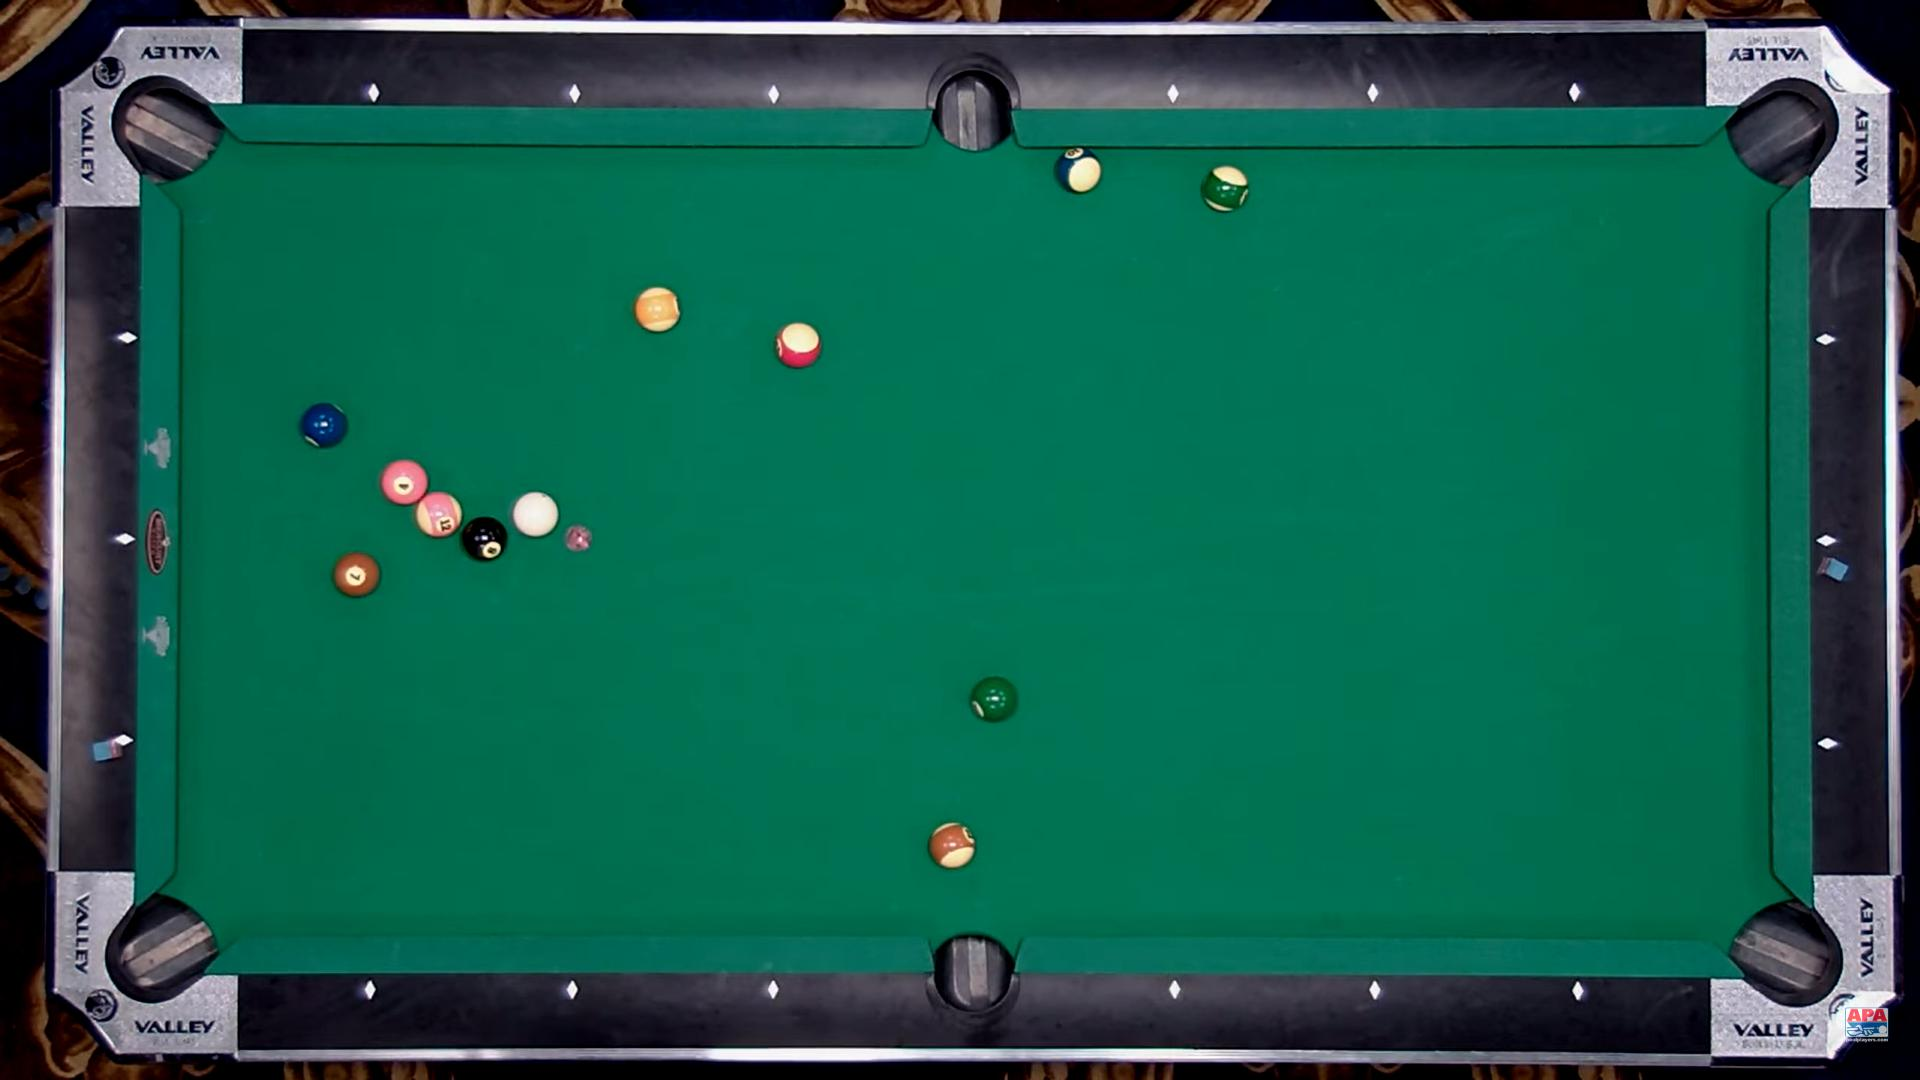Black: (463, 517, 506, 562)
Cue: (514, 491, 560, 538)
Dot: (1367, 86, 1382, 100), (1818, 334, 1833, 348), (1818, 534, 1833, 549), (1818, 736, 1833, 750), (1575, 985, 1589, 1000), (563, 982, 578, 997), (363, 984, 377, 998), (115, 735, 129, 748), (119, 533, 132, 547), (121, 331, 135, 345), (367, 87, 381, 100), (567, 84, 580, 99), (765, 87, 779, 100), (1568, 86, 1582, 99), (1367, 982, 1382, 996), (1168, 982, 1182, 997), (765, 981, 778, 996), (1168, 88, 1182, 102)
Solid: (969, 676, 1018, 723), (301, 402, 348, 448), (381, 460, 429, 505), (334, 551, 378, 597)
Striped: (1201, 166, 1250, 214), (1054, 146, 1102, 193), (930, 822, 975, 870), (775, 322, 822, 368), (417, 492, 463, 538), (636, 287, 680, 334)
